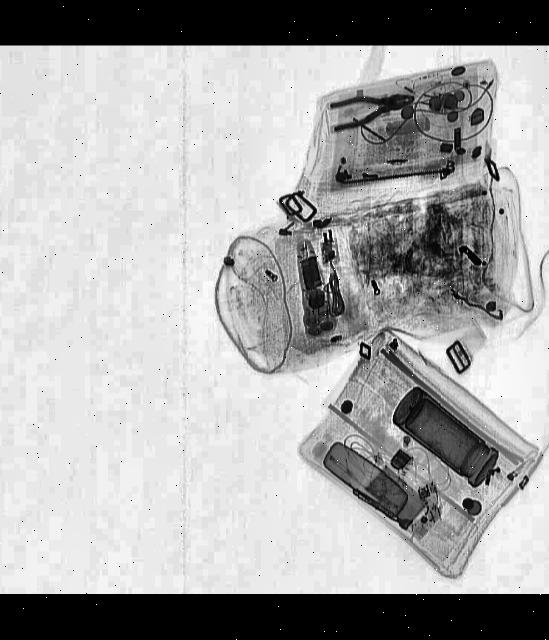Pliers: (326, 83, 416, 130)
